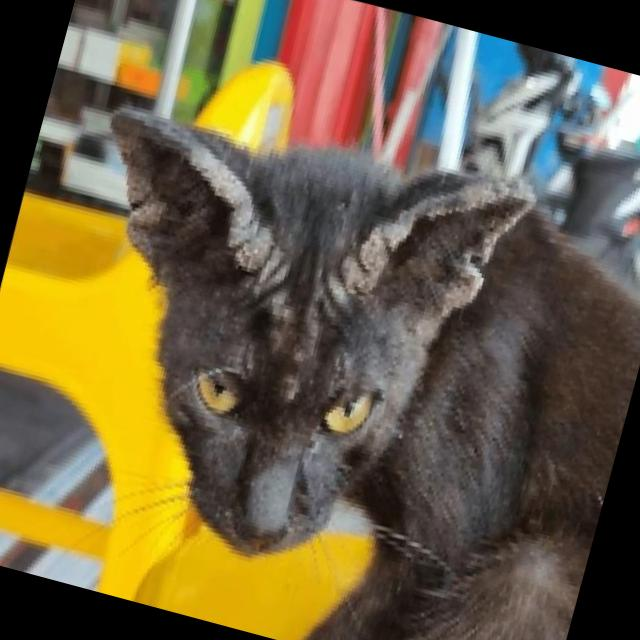Mange: (329, 171, 536, 313), (168, 119, 287, 294), (122, 150, 159, 268), (263, 356, 312, 416)
